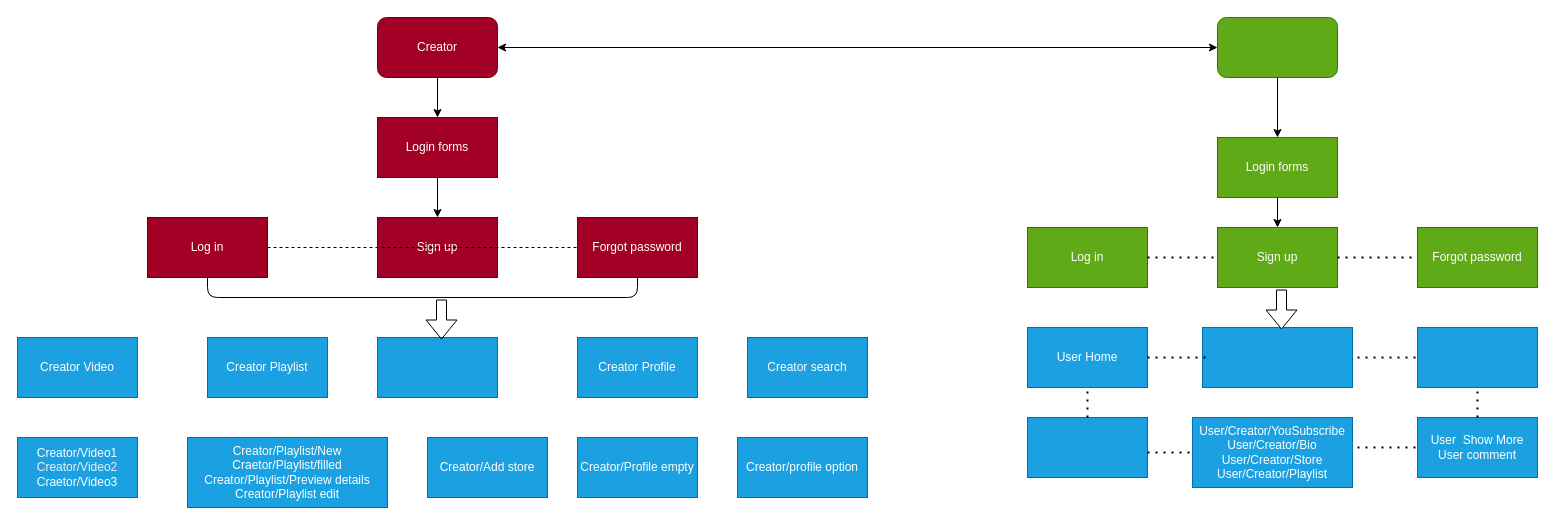
The diagram is 1555 pixels wide and 525 high, and some of its shapes have lost their labels. Here are the shapes that lost their labels. From the top down, the box of each, then its label:
(1216, 16, 1338, 78): User
(376, 336, 498, 398): Creator Store
(1202, 326, 1352, 388): User/Creator/Subscribe
(1416, 326, 1538, 388): User Video
(1026, 416, 1148, 478): User Latest User View Later User Home More
